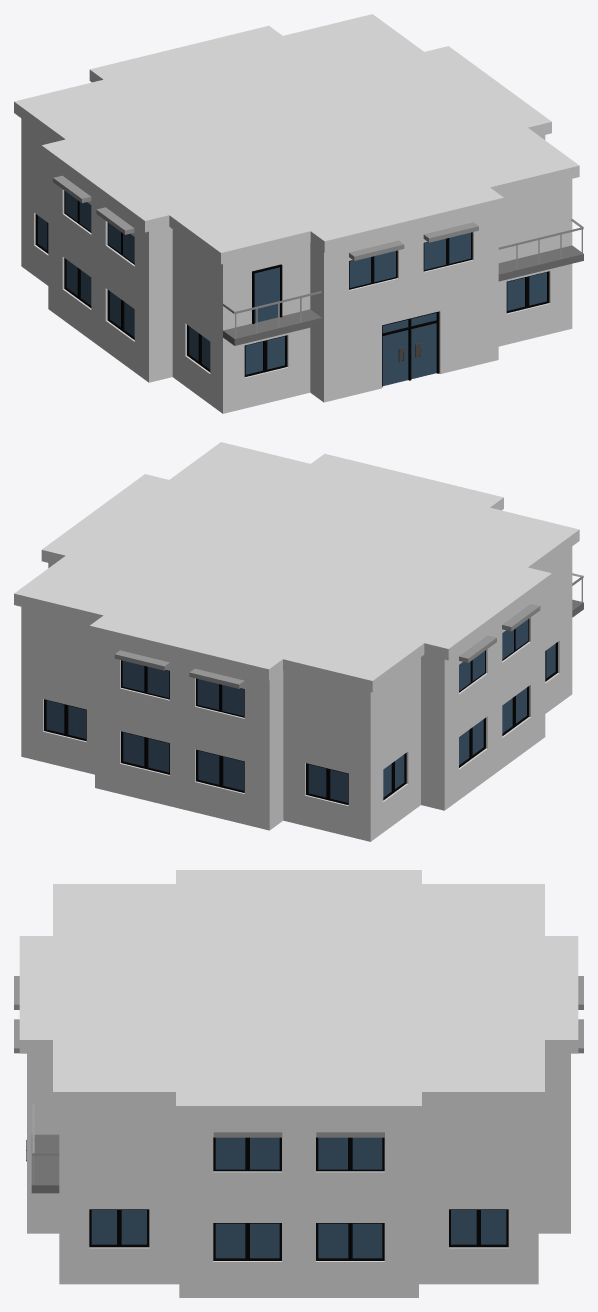
The model's file is BGC 1.fbx.
3 renders of one model, top to bottom at view 1: azimuth 30°, elevation 25°; view 2: azimuth 150°, elevation 25°; view 3: azimuth 270°, elevation 25°, orthographic. The views are drawn at different scales.
Visible parts, largest first — view 1: BGC1_Roof, BGC1_Base_Main, BGC1_Floor_Main, BGC1_Base_Windows, BGC1_Floor_Balcony, BGC1_Floor_Windows, BGC1_Base_Frame, BGC1_Floor_Box, BGC1_Floor_Door, BGC1_Floor_Frame; view 2: BGC1_Roof, BGC1_Base_Main, BGC1_Floor_Main, BGC1_Base_Windows, BGC1_Floor_Windows, BGC1_Base_Frame, BGC1_Floor_Box, BGC1_Floor_Frame; view 3: BGC1_Roof, BGC1_Floor_Main, BGC1_Base_Main, BGC1_Base_Windows, BGC1_Floor_Windows, BGC1_Base_Frame, BGC1_Floor_Box, BGC1_Floor_Balcony, BGC1_Floor_Frame.
Boxes of the visible parts, x1,y1,x2,y2 form: BGC1_Roof: (14, 14, 579, 264); BGC1_Base_Main: (21, 189, 572, 413); BGC1_Floor_Main: (21, 118, 572, 336); BGC1_Base_Windows: (38, 216, 546, 385); BGC1_Floor_Balcony: (223, 219, 583, 345); BGC1_Floor_Windows: (65, 191, 470, 287); BGC1_Base_Frame: (35, 214, 549, 387); BGC1_Floor_Box: (53, 175, 478, 260); BGC1_Floor_Door: (252, 264, 282, 324); BGC1_Floor_Frame: (64, 190, 472, 289); BGC1_Roof: (14, 442, 579, 692); BGC1_Base_Main: (21, 617, 572, 841); BGC1_Floor_Main: (21, 546, 572, 764); BGC1_Base_Windows: (46, 643, 555, 802); BGC1_Floor_Windows: (122, 619, 528, 716); BGC1_Base_Frame: (44, 642, 557, 804); BGC1_Floor_Box: (114, 604, 540, 688); BGC1_Floor_Frame: (121, 619, 529, 717); BGC1_Roof: (19, 870, 578, 1119); BGC1_Floor_Main: (27, 1053, 570, 1206); BGC1_Base_Main: (27, 1142, 570, 1297); BGC1_Base_Windows: (91, 1210, 506, 1258); BGC1_Floor_Windows: (215, 1137, 382, 1169); BGC1_Base_Frame: (89, 1209, 508, 1260); BGC1_Floor_Box: (14, 976, 583, 1137); BGC1_Floor_Balcony: (31, 1103, 59, 1193); BGC1_Floor_Frame: (213, 1137, 384, 1171).
Size of the model in its own units: 1607 by 607 by 1608.
